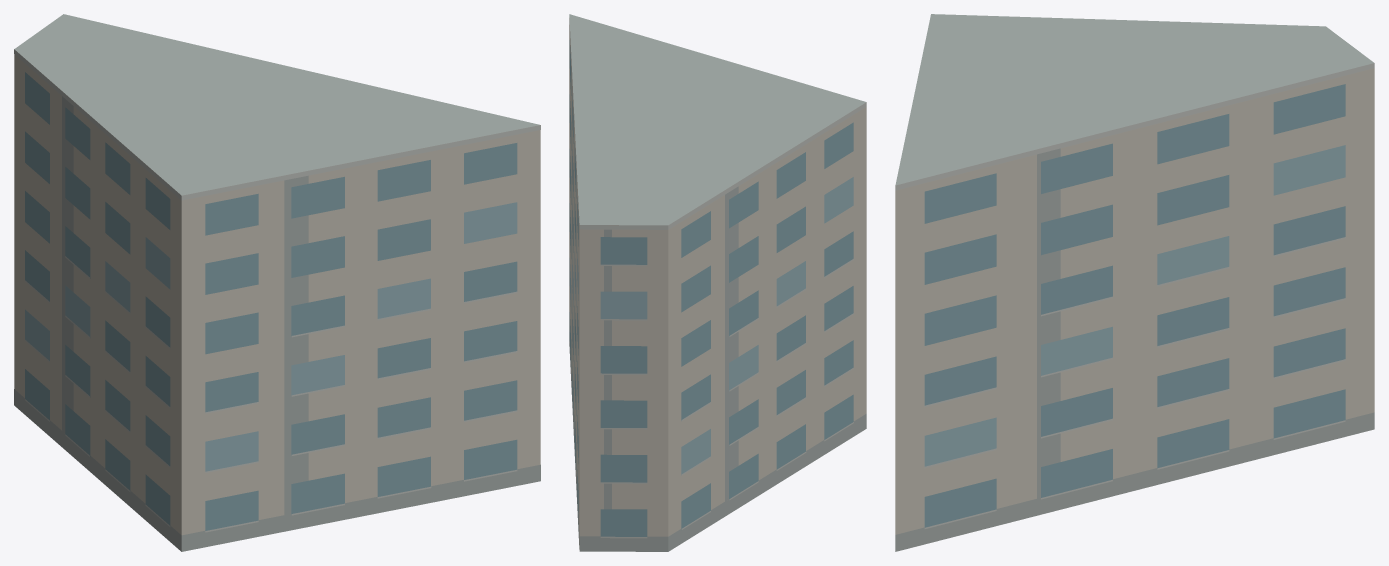
File: survey-upis-32878133.glb
3 views of the same model, side by side, from view 1: azimuth 30°, elevation 25°; view 2: azimuth 150°, elevation 25°; view 3: azimuth 270°, elevation 25° (orthographic). The views are drawn at different scales.
Visible parts, largest first — view 1: survey-upis-32878133.tmp; view 2: survey-upis-32878133.tmp; view 3: survey-upis-32878133.tmp.
Boxes of the visible parts, x1,y1,x2,y2 form: survey-upis-32878133.tmp: (14, 14, 540, 551); survey-upis-32878133.tmp: (569, 14, 866, 551); survey-upis-32878133.tmp: (895, 14, 1374, 551).
Size of the model in its own units: 17.63 by 17.55 by 20.82.
